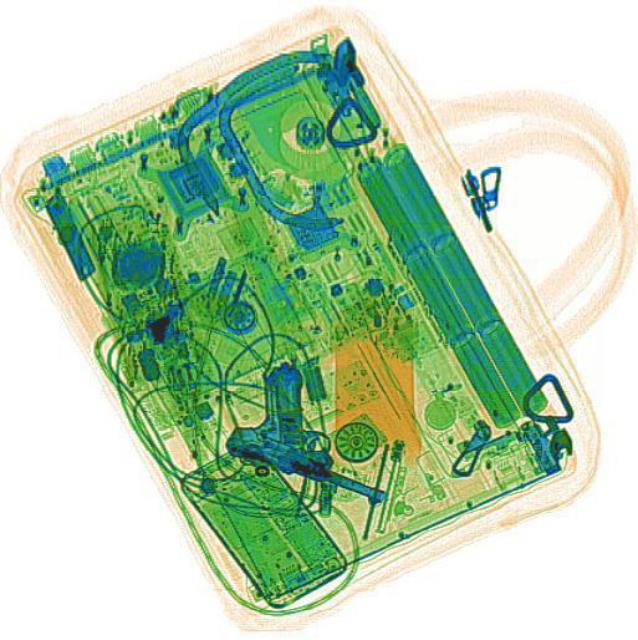Gun: (224, 356, 418, 504)
